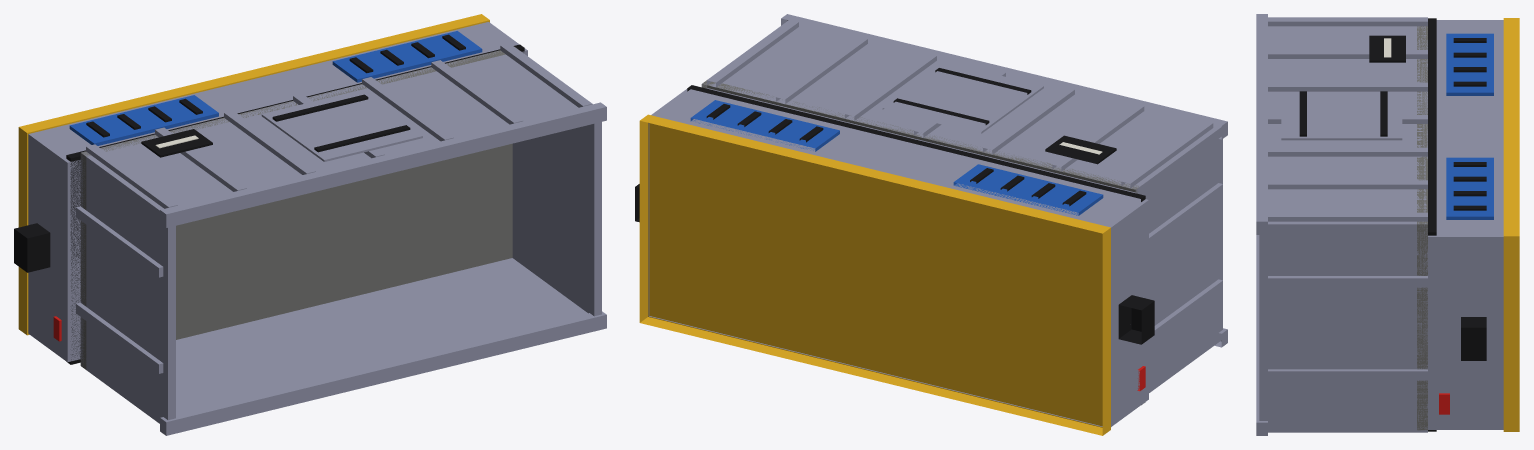
File: empty.glb
3 renders of one model, left to right at view 1: azimuth 30°, elevation 25°; view 2: azimuth 150°, elevation 25°; view 3: azimuth 270°, elevation 25°, orthographic. The views are drawn at different scales.
Parts seen in each view (by area): view 1: empty_body, empty_base, empty_stripe, empty_door1, empty_pod10, empty_pod11, empty_base_lip, empty_coupler-1, empty_panel1, empty_hinge13.6999999999999997, empty_hinge12.6; view 2: empty_stripe, empty_body, empty_base, empty_door1, empty_pod10, empty_pod11, empty_base_lip, empty_coupler-1, empty_panel1; view 3: empty_body, empty_base, empty_stripe, empty_door1, empty_pod10, empty_pod11, empty_base_lip, empty_coupler1, empty_panel1, empty_hinge12.6, empty_hinge13.6999999999999997.
Boxes of the visible parts, x1,y1,x2,y2 form: empty_body: (76,43,606,435); empty_base: (28,22,527,362); empty_stripe: (18,14,489,335); empty_door1: (261,90,422,161); empty_pod10: (69,95,218,145); empty_pod11: (332,31,482,82); empty_base_lip: (66,44,524,364); empty_coupler-1: (14,223,50,272); empty_panel1: (141,129,212,157); empty_hinge13.6999999999999997: (314,125,410,152); empty_hinge12.6: (272,94,368,121); empty_stripe: (639,114,1110,435); empty_body: (701,14,1227,392); empty_base: (648,89,1148,426); empty_door1: (882,62,1043,133); empty_pod10: (953,164,1103,215); empty_pod11: (690,100,839,151); empty_base_lip: (687,85,1145,404); empty_coupler-1: (1118,295,1154,344); empty_panel1: (1045,135,1116,164); empty_body: (1256,14,1427,435); empty_base: (1428,20,1503,429); empty_stripe: (1503,18,1519,431); empty_door1: (1281,91,1402,140); empty_pod10: (1446,33,1493,95); empty_pod11: (1446,157,1493,219); empty_base_lip: (1428,18,1436,431); empty_coupler1: (1461,317,1486,360); empty_panel1: (1369,35,1405,62); empty_hinge12.6: (1380,91,1387,136); empty_hinge13.6999999999999997: (1299,91,1306,136).
Size of the model in its own units: 7.7 by 3.37 by 3.59.
